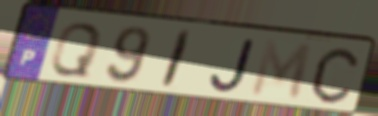9: (101, 24, 152, 86)
C: (309, 46, 361, 106)
I: (157, 28, 195, 92)
J: (208, 36, 259, 95)
M: (248, 38, 315, 103)
Q: (47, 21, 105, 79)
